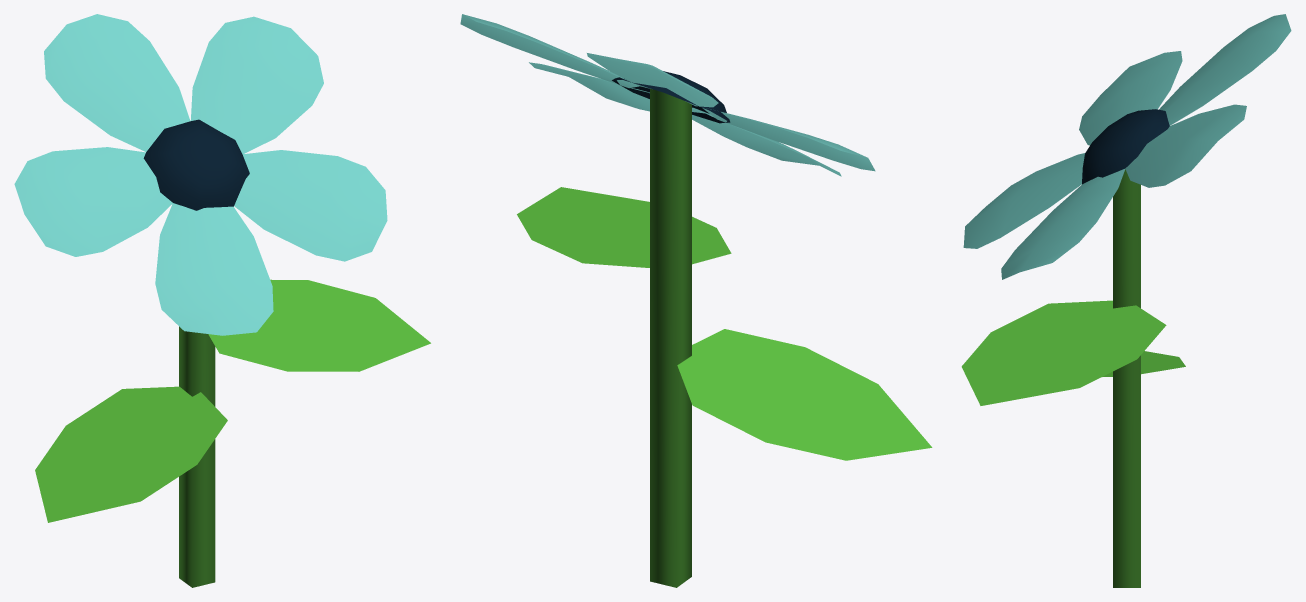
The model's file is Flower_21.fbx.
3 views of the same model, side by side, from view 1: azimuth 30°, elevation 25°; view 2: azimuth 150°, elevation 25°; view 3: azimuth 270°, elevation 25° (orthographic). The views are drawn at different scales.
Parts seen in each view (by area): view 1: Flower_21; view 2: Flower_21; view 3: Flower_21.
Part boxes in pixels (box(x1,y1,x2,y2)): Flower_21: box(14, 14, 430, 587); Flower_21: box(460, 14, 932, 587); Flower_21: box(961, 14, 1291, 587).
Size of the model in its own units: 41.9 by 58.44 by 32.35.
